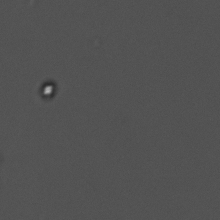Living Cell: (34, 77, 61, 102)
